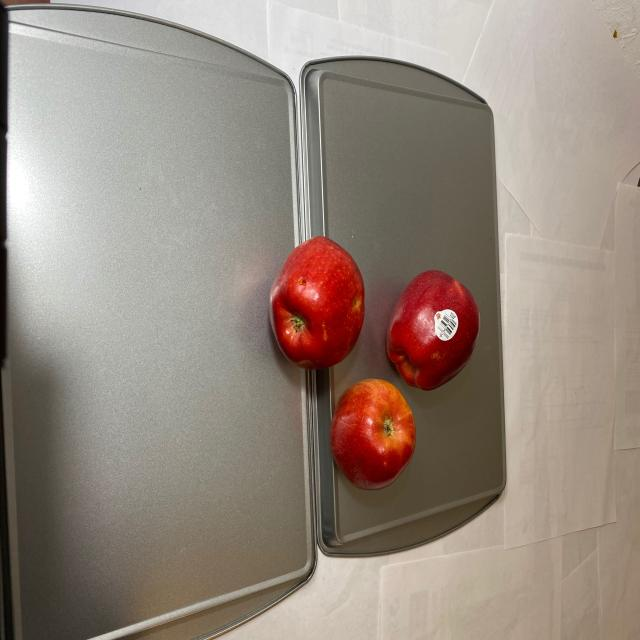apple: (270, 236, 480, 492)
